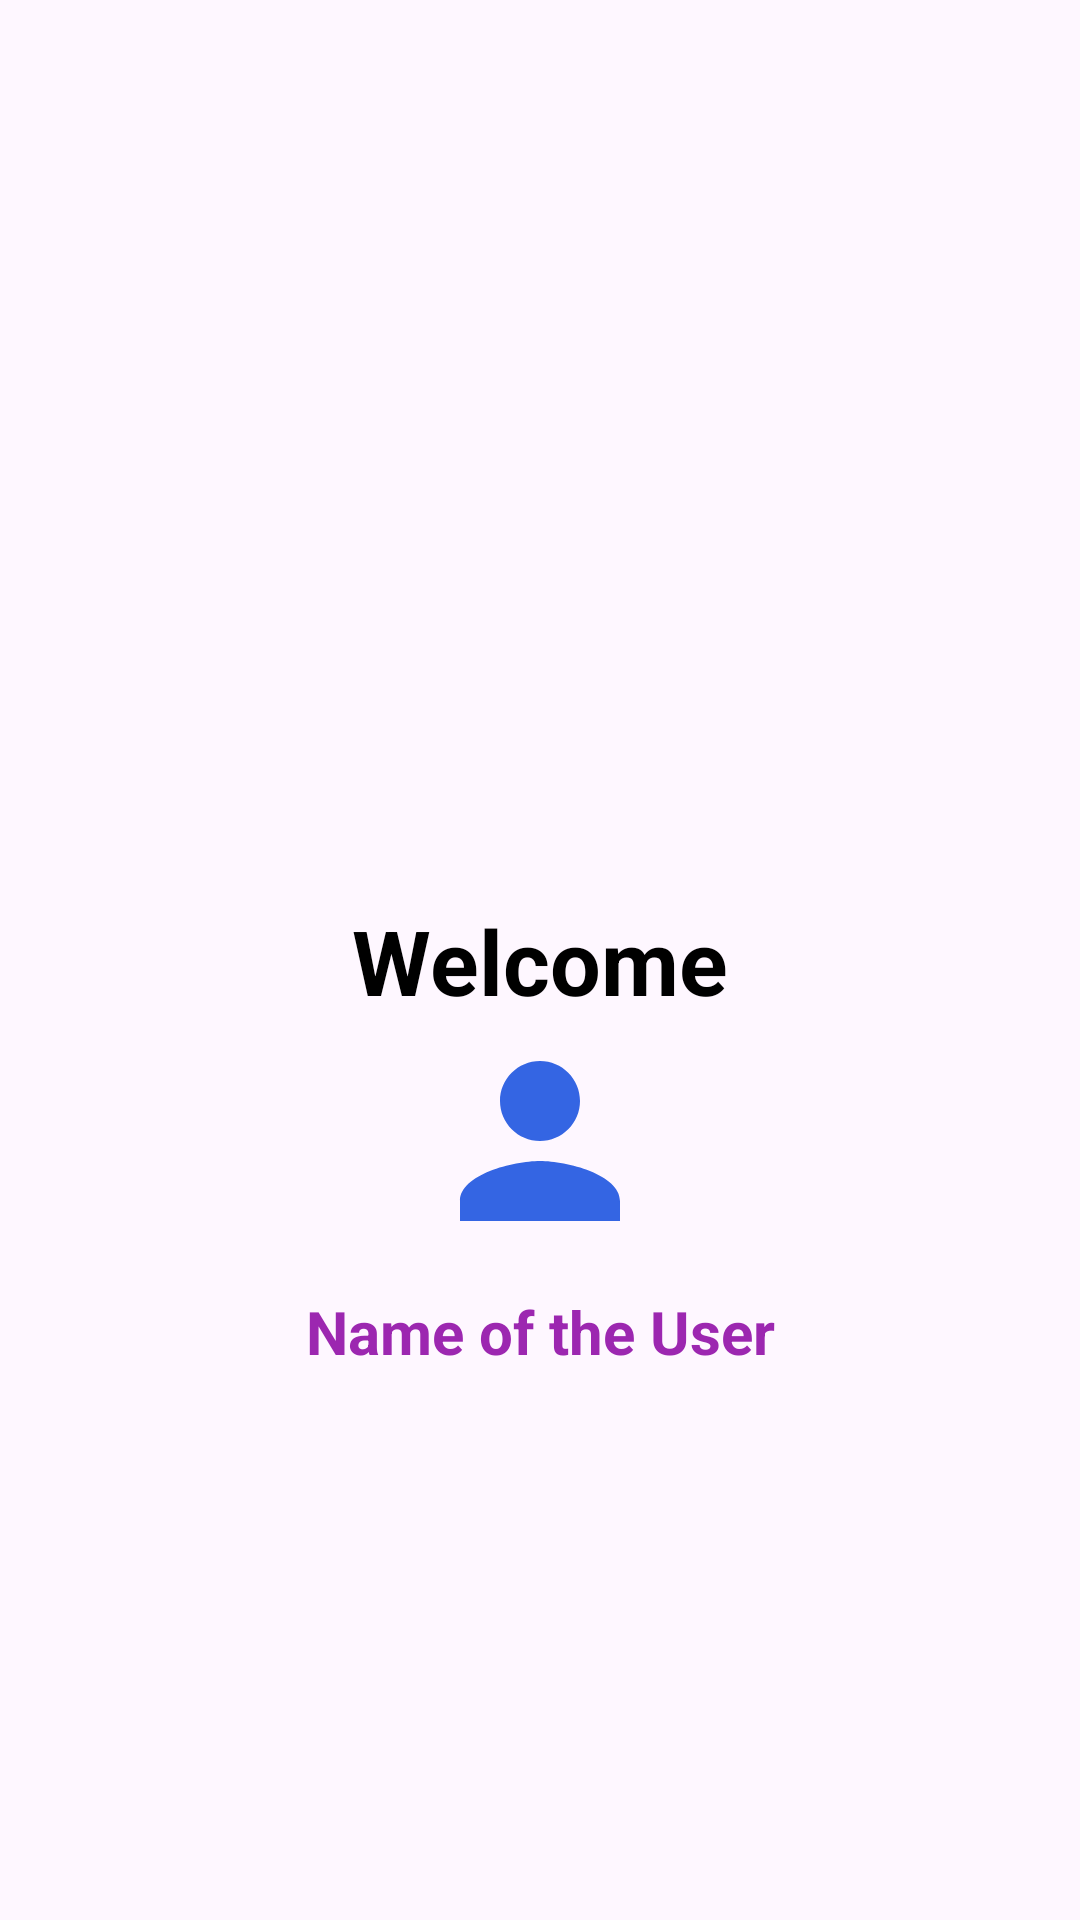

Icon bounding boxes for this 1080px x 1920px phone screenshot, format detection(x1, y1, x2, y2):
person: detection(460, 1061, 620, 1221)
